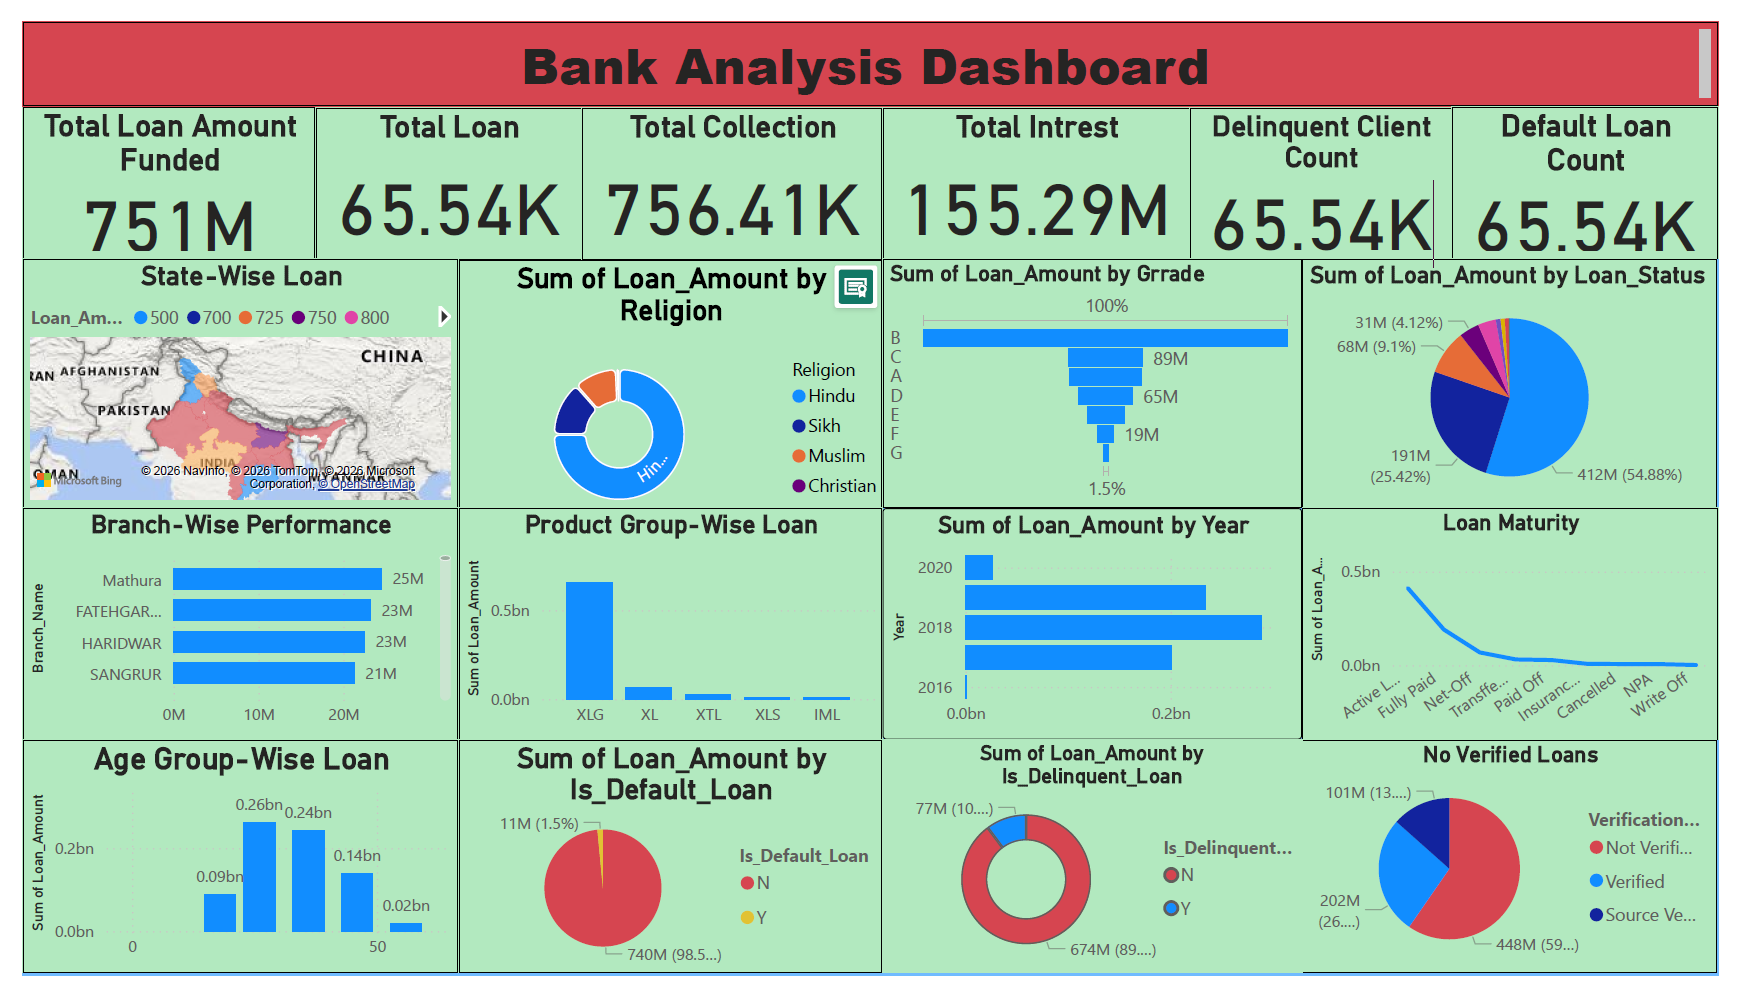

The dashboard page shown, as its layout file describes it:
{"tool":"powerbi","page":{"name":"Dashboard","canvas":[1280,720],"ordinal":0},"visuals":[{"type":"card","title":"Total Loan Amount Funded","fields":{"Values":["Sum(banking dataset.Loan_Amount)"]},"box":[0,63.9,220.8,114.6],"z":0},{"type":"textbox","box":[0,0,1280,64.2],"z":1000},{"type":"card","title":"Total Loan","fields":{"Values":["CountNonNull(banking dataset.Loan_Amount)"]},"box":[220.8,65.1,201.5,114.6],"z":2000},{"type":"card","title":"Total Collection","fields":{"Values":["Sum(banking dataset.Collection_Recovery_fee)"]},"box":[422.3,65.1,226.8,114.6],"z":3000},{"type":"card","title":"Total Intrest","fields":{"Values":["Sum(banking dataset.Total_Rrec_int)"]},"box":[649.1,65.1,231.6,114.6],"z":4000},{"type":"filledMap","title":" State-Wise Loan","fields":{"Category":["banking dataset.State_Name"],"Series":["banking dataset.Loan_Amount"]},"box":[0,178.6,329.4,188.2],"z":5000},{"type":"clusteredBarChart","title":" Branch-Wise Performance","fields":{"Category":["banking dataset.Branch_Name"],"Y":["Sum(banking dataset.Loan_Amount)"]},"box":[0,366.8,329.4,174.9],"z":6000},{"type":"SunburstVizA96234ADB8D143D1837FEC426BB34781","fields":{"category":["banking dataset.Religion"],"measure":["Sum(banking dataset.Loan_Amount)"]},"box":[329.4,179.8,319.7,187],"z":7000},{"type":"clusteredColumnChart","title":"Product Group-Wise Loan","fields":{"Category":["banking dataset.Product_Code"],"Y":["Sum(banking dataset.Loan_Amount)"]},"box":[329.4,366.8,319.7,174.9],"z":8000},{"type":"barChart","fields":{"Category":["banking dataset.Disbursement_Date.Variation.Date Hierarchy.Year","banking dataset.Disbursement_Date.Variation.Date Hierarchy.Quarter","banking dataset.Disbursement_Date.Variation.Date Hierarchy.Month","banking dataset.Disbursement_Date.Variation.Date Hierarchy.Day"],"Y":["Sum(banking dataset.Loan_Amount)"]},"box":[649.1,366.8,317.3,174.9],"z":9000},{"type":"card","title":"Delinquent Client Count","fields":{"Values":["CountNonNull(banking dataset.Is_Delinquent_Loan)"]},"box":[880.7,65.1,197.9,114.6],"z":10000},{"type":"card","title":"Default Loan Count","fields":{"Values":["CountNonNull(banking dataset.Is_Default_Loan)"]},"box":[1078.6,63.9,201.5,114.6],"z":11000},{"type":"funnel","fields":{"Category":["banking dataset.Grrade"],"Y":["Sum(banking dataset.Loan_Amount)"]},"box":[649.1,178.6,317.3,188.2],"z":12000},{"type":"pieChart","fields":{"Y":["Sum(banking dataset.Loan_Amount)"],"Category":["banking dataset.Loan_Status"]},"box":[966.4,178.6,312.5,188.2],"z":13000},{"type":"lineChart","title":" Loan Maturity","fields":{"Category":["banking dataset.Loan_Status"],"Y":["Sum(banking dataset.Loan_Amount)"]},"box":[966.4,366.8,313.7,174.9],"z":14000},{"type":"pieChart","title":"No Verified Loans","fields":{"Category":["banking dataset.Verification_Status"],"Y":["Sum(banking dataset.Loan_Amount)"]},"box":[966.4,541.7,312.5,176.1],"z":15000},{"type":"columnChart","title":"Age Group-Wise Loan","fields":{"Y":["Sum(banking dataset.Loan_Amount)"],"Category":["banking dataset.Age_Cleaned"]},"box":[0,541.7,329.4,176.1],"z":16000},{"type":"donutChart","fields":{"Y":["Sum(banking dataset.Loan_Amount)"],"Category":["banking dataset.Is_Delinquent_Loan"]},"box":[649.1,541.7,317.3,176.1],"z":17000},{"type":"pieChart","fields":{"Y":["Sum(banking dataset.Loan_Amount)"],"Category":["banking dataset.Is_Default_Loan"]},"box":[329.4,541.7,319.7,176.1],"z":18000}]}

Visuals, with their boxes in screenshot pixels (x1, y1, x2, y2), scaled from the page's 1280x720 canvas onto the 1739x998 screenshot:
"Total Loan Amount Funded" card: <bbox>0, 89, 300, 247</bbox>
textbox: <bbox>0, 0, 1738, 89</bbox>
"Total Loan" card: <bbox>300, 90, 574, 249</bbox>
"Total Collection" card: <bbox>574, 90, 882, 249</bbox>
"Total Intrest" card: <bbox>882, 90, 1197, 249</bbox>
" State-Wise Loan" filledMap: <bbox>0, 248, 448, 508</bbox>
" Branch-Wise Performance" clusteredBarChart: <bbox>0, 508, 448, 751</bbox>
SunburstVizA96234ADB8D143D1837FEC426BB34781 - banking dataset.Religion x Sum(banking dataset.Loan_Amount): <bbox>448, 249, 882, 508</bbox>
"Product Group-Wise Loan" clusteredColumnChart: <bbox>448, 508, 882, 751</bbox>
barChart - banking dataset.Disbursement_Date.Variation.Date Hierarchy.Year x banking dataset.Disbursement_Date.Variation.Date Hierarchy.Quarter: <bbox>882, 508, 1313, 751</bbox>
"Delinquent Client Count" card: <bbox>1197, 90, 1465, 249</bbox>
"Default Loan Count" card: <bbox>1465, 89, 1738, 247</bbox>
funnel - banking dataset.Grrade x Sum(banking dataset.Loan_Amount): <bbox>882, 248, 1313, 508</bbox>
pieChart - Sum(banking dataset.Loan_Amount) x banking dataset.Loan_Status: <bbox>1313, 248, 1738, 508</bbox>
" Loan Maturity" lineChart: <bbox>1313, 508, 1738, 751</bbox>
"No Verified Loans" pieChart: <bbox>1313, 751, 1738, 995</bbox>
"Age Group-Wise Loan" columnChart: <bbox>0, 751, 448, 995</bbox>
donutChart - Sum(banking dataset.Loan_Amount) x banking dataset.Is_Delinquent_Loan: <bbox>882, 751, 1313, 995</bbox>
pieChart - Sum(banking dataset.Loan_Amount) x banking dataset.Is_Default_Loan: <bbox>448, 751, 882, 995</bbox>
